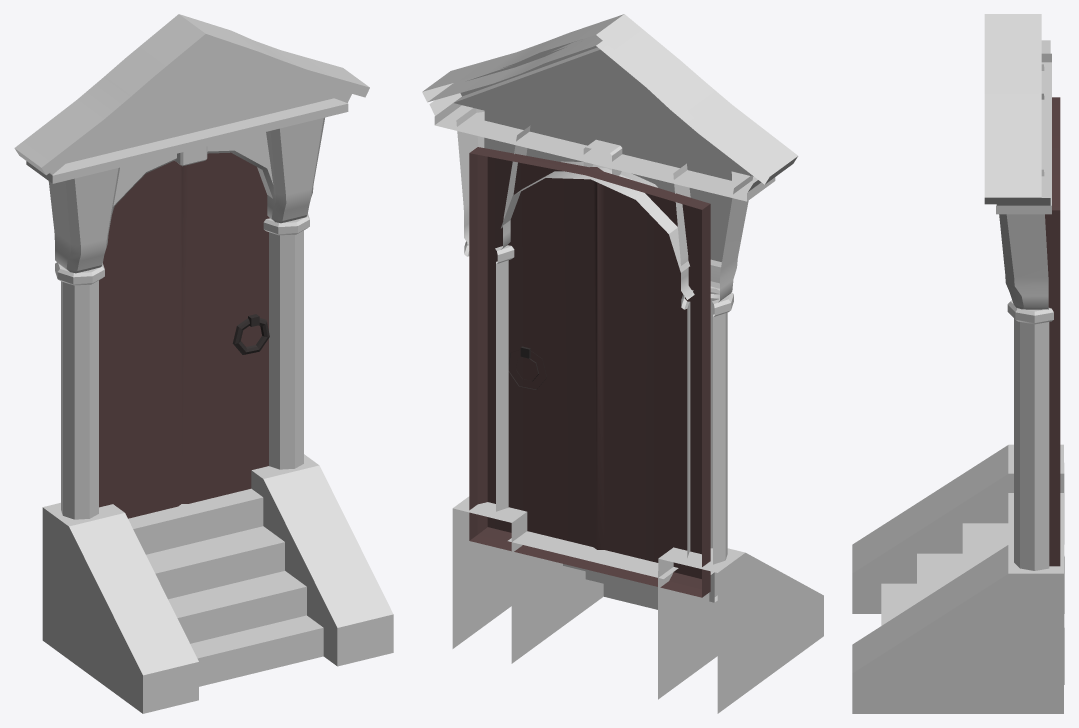
The model's file is Door2.fbx.
The picture shows the model from 3 angles, left to right: view 1: azimuth 30°, elevation 25°; view 2: azimuth 150°, elevation 25°; view 3: azimuth 270°, elevation 25°; orthographic projection. The views are drawn at different scales.
Parts seen in each view (by area): view 1: pCube50; view 2: pCube50; view 3: pCube50.
Boxes of the visible parts, bbox=[...] form: pCube50: bbox=[14, 14, 393, 713]; pCube50: bbox=[422, 14, 823, 713]; pCube50: bbox=[852, 14, 1064, 713].
Size of the model in its own units: 636 by 1116 by 338.
